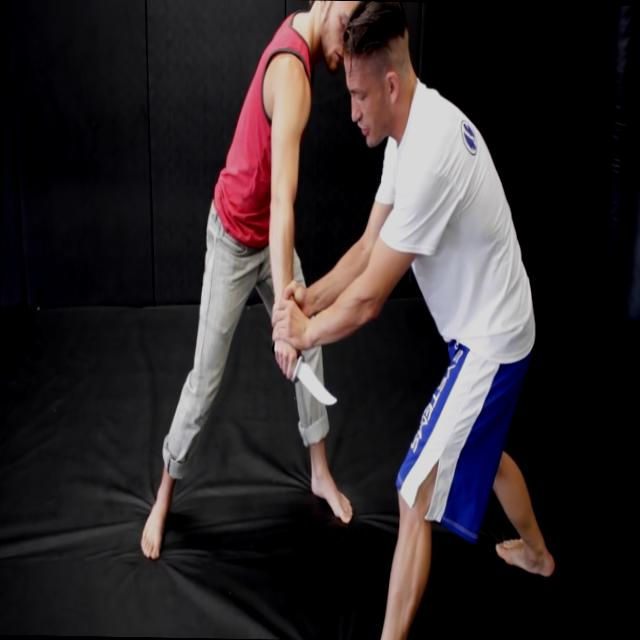knife: (266, 333, 344, 410)
